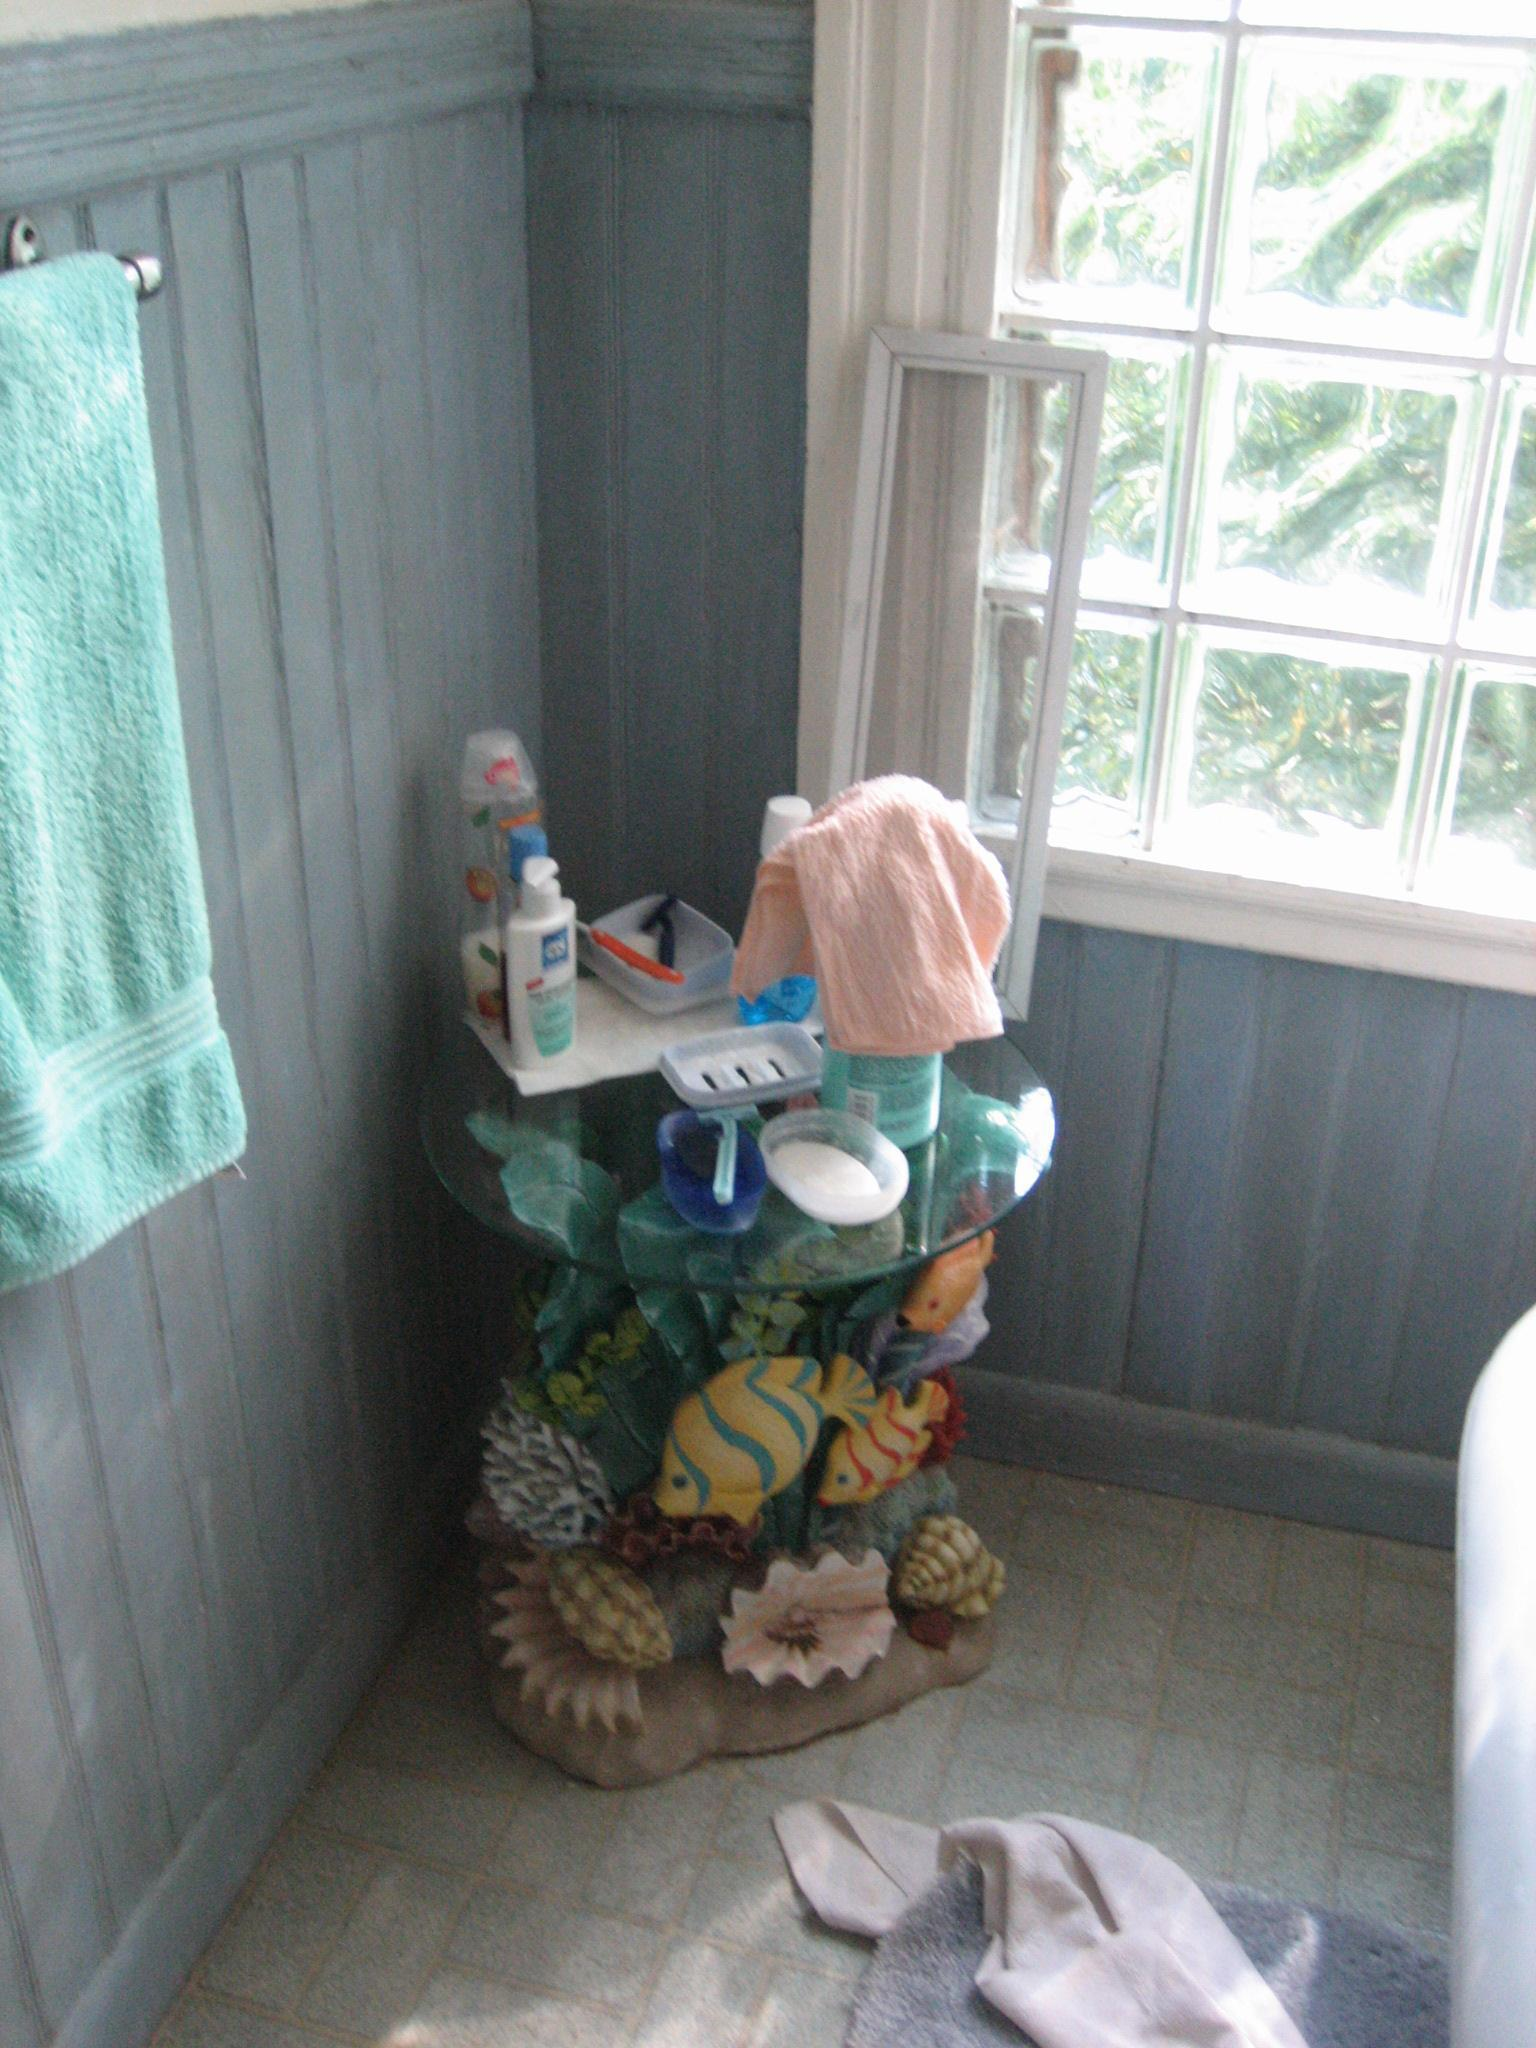Ventana: (912, 34, 1534, 987)
